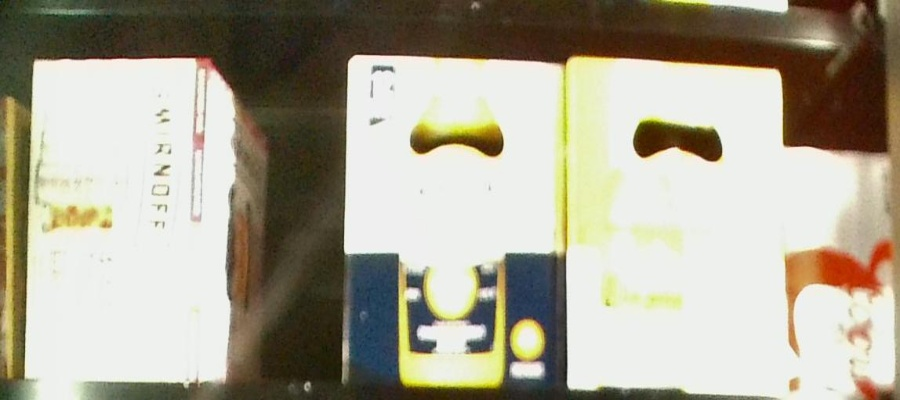bottle: (29, 57, 267, 384), (345, 49, 569, 392), (570, 49, 785, 396), (787, 143, 895, 395)
